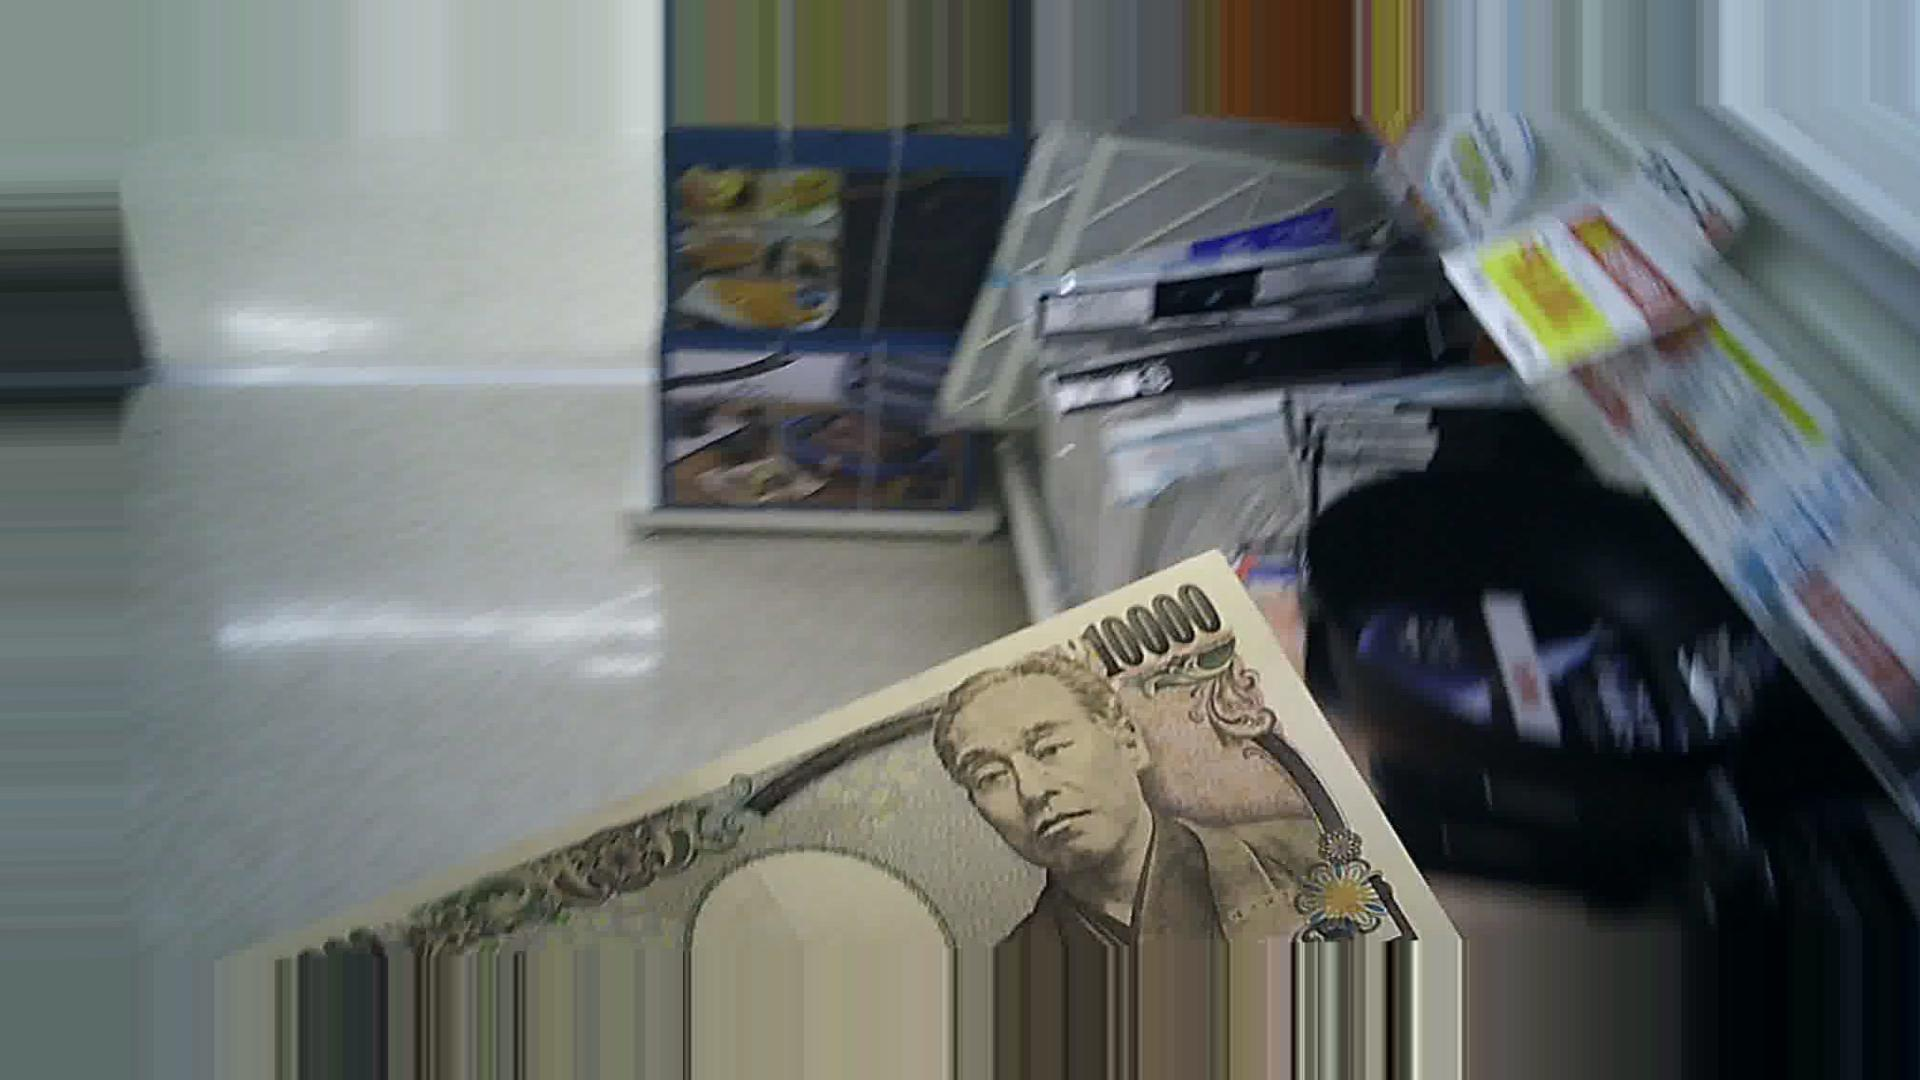10,000 Yen: (202, 480, 1477, 942)
